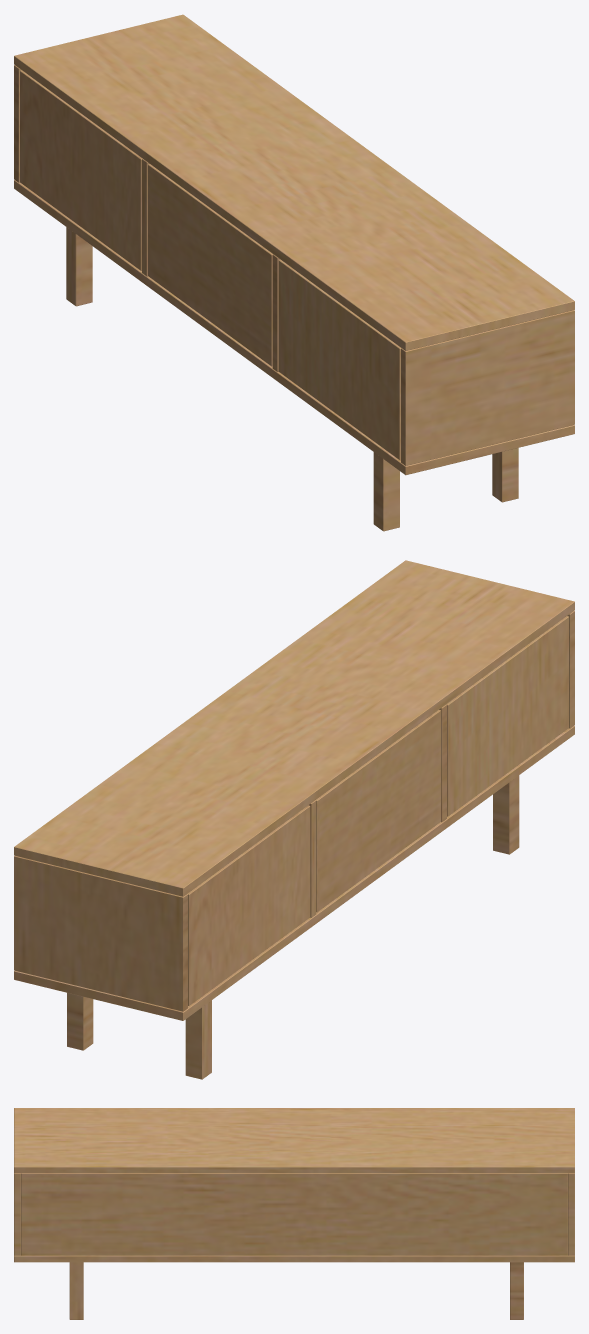
Rendered from Cabinet.FBX.
The picture shows the model from 3 angles, top to bottom: view 1: azimuth 30°, elevation 25°; view 2: azimuth 150°, elevation 25°; view 3: azimuth 270°, elevation 25°; orthographic projection. The views are drawn at different scales.
Parts seen in each view (by area): view 1: Object053, Shape081; view 2: Object053, Shape081; view 3: Object053, Shape081.
Boxes of the visible parts, x1,y1,x2,y2 form: Object053: (14, 14, 574, 475); Shape081: (66, 227, 518, 531); Object053: (14, 560, 574, 1020); Shape081: (67, 775, 519, 1079); Object053: (14, 1108, 574, 1262); Shape081: (69, 1262, 523, 1319).
Size of the model in its own units: 0.4 by 0.5 by 1.6.
1 material, 1 textured.
